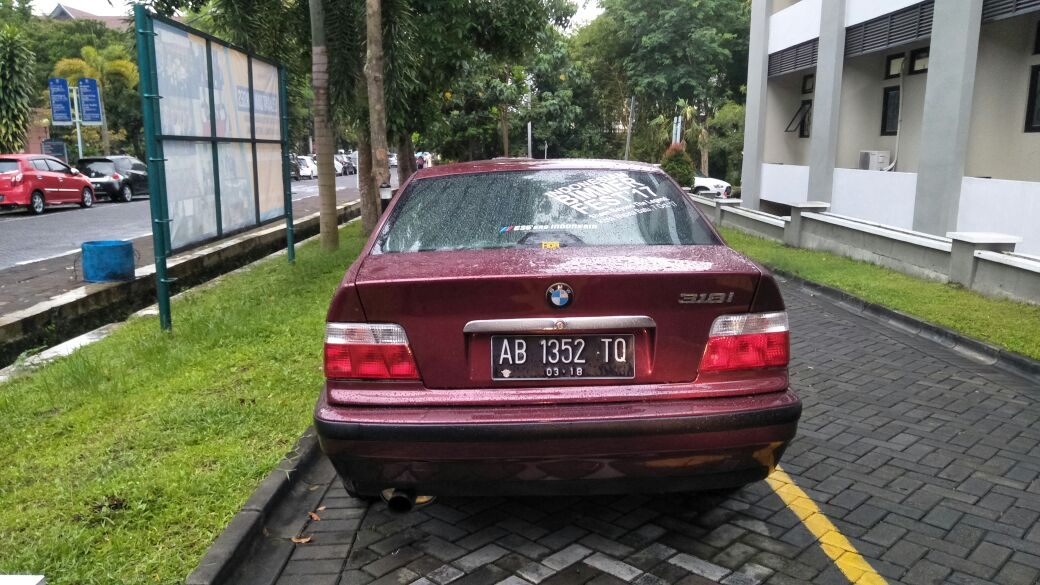plate: (491, 333, 639, 381)
